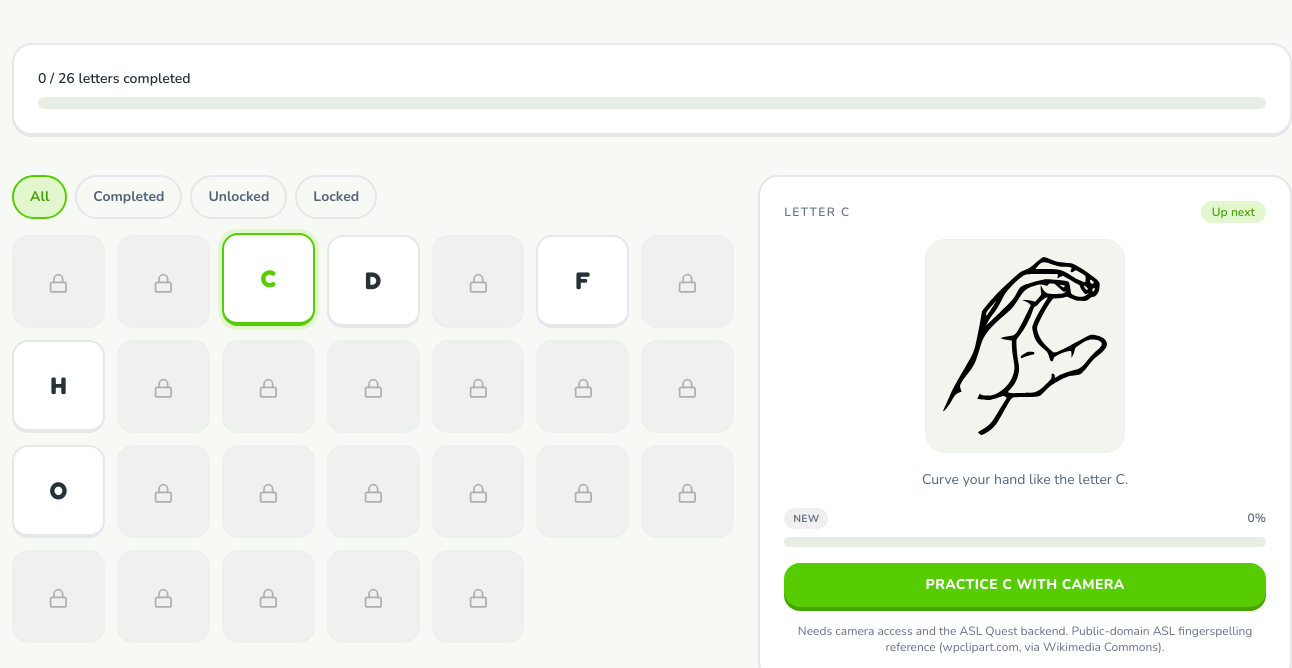
it: AlphabetPage › locked letters explain why and offer no practice action
(page scrolled)
Step 1. Click the button named "letter z, locked" → (478, 596), box [432,550,524,643]
(page scrolled)
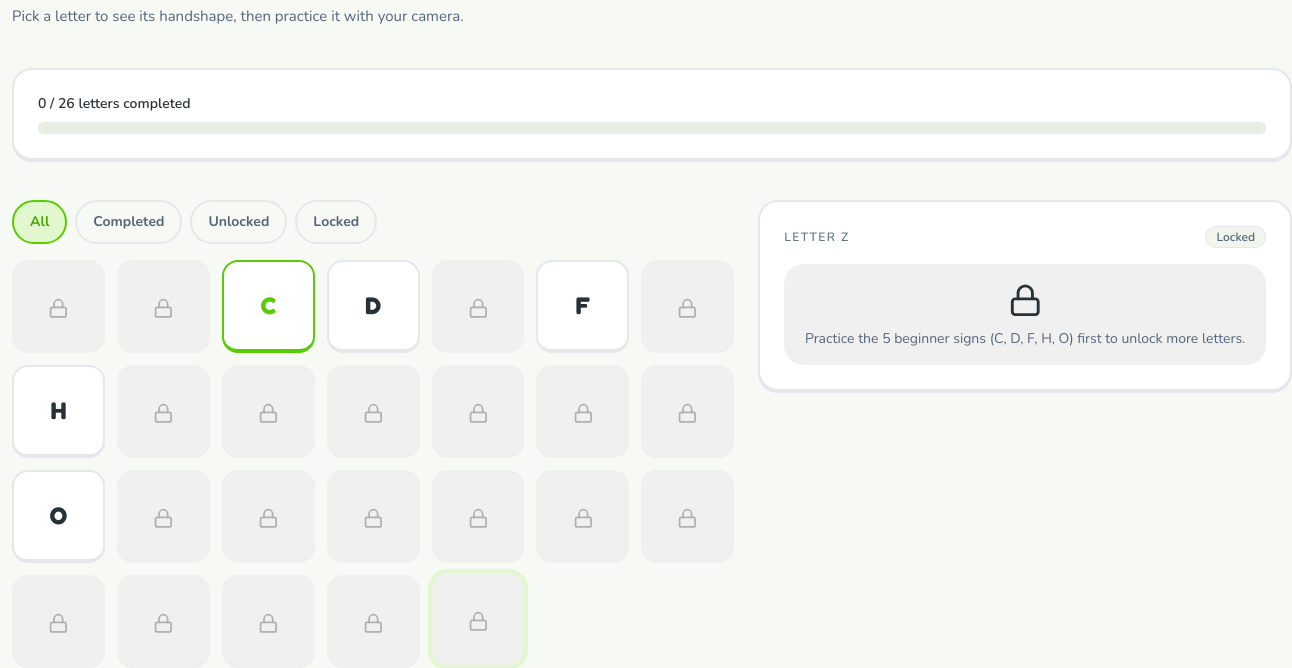
Expected: the element with test id "alphabet-detail" shows "beginner signs", [805,329,1245,348]
